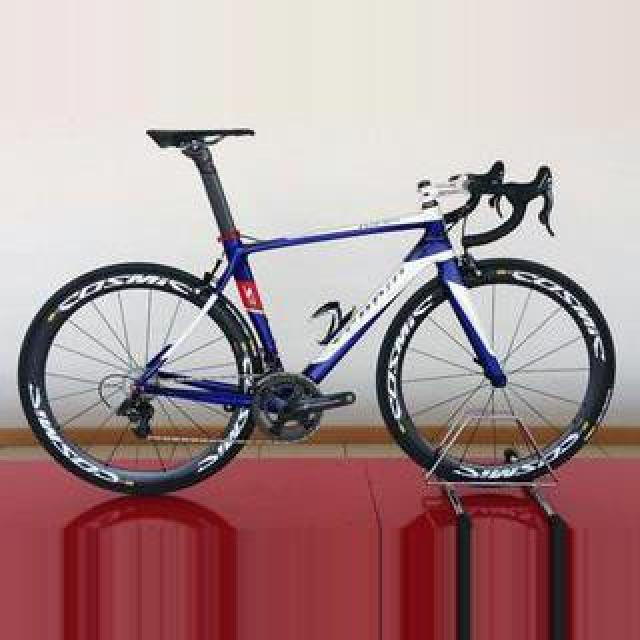Person: (8, 120, 618, 514)
